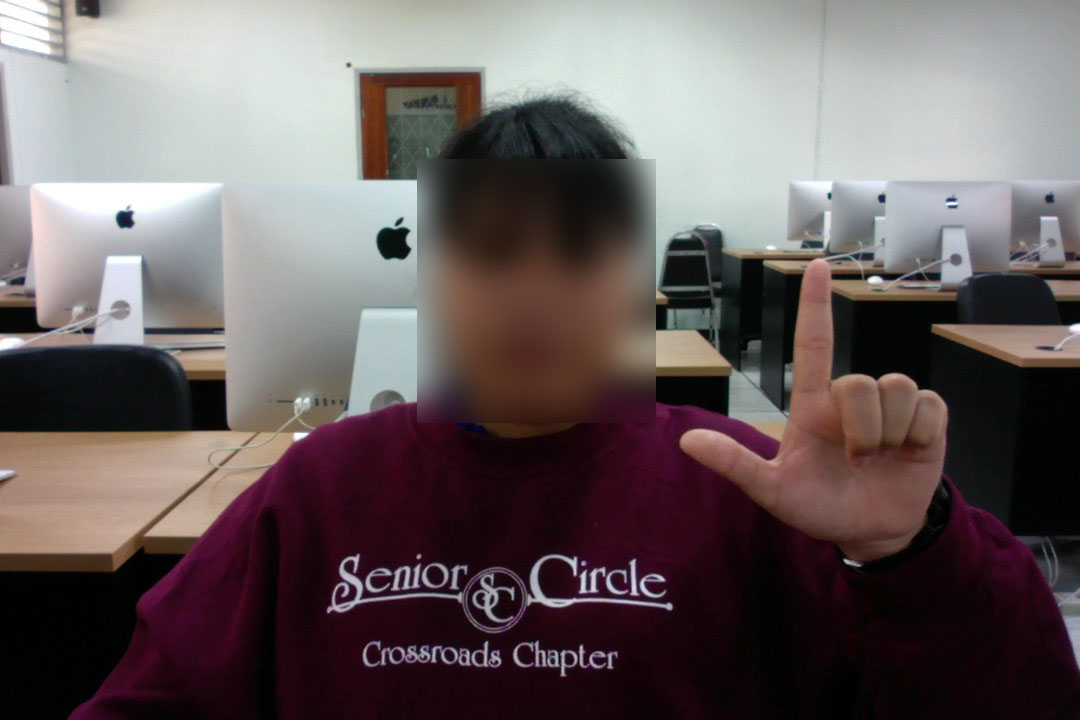lor: (669, 243, 978, 575)
